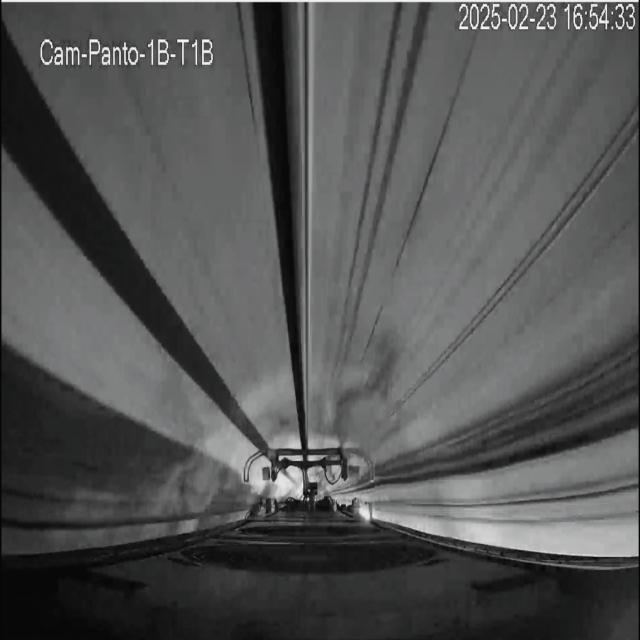Camera Stamp: (40, 35, 218, 69)
Date Stamp: (457, 3, 634, 33)
No - Spark: (190, 374, 381, 515), (308, 348, 398, 463)
